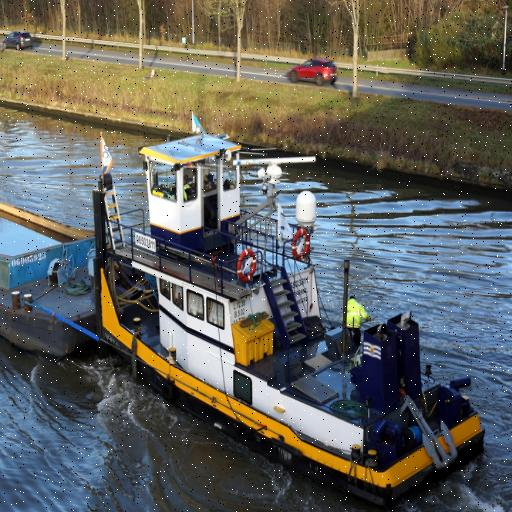tugboat: (91, 108, 491, 512)
